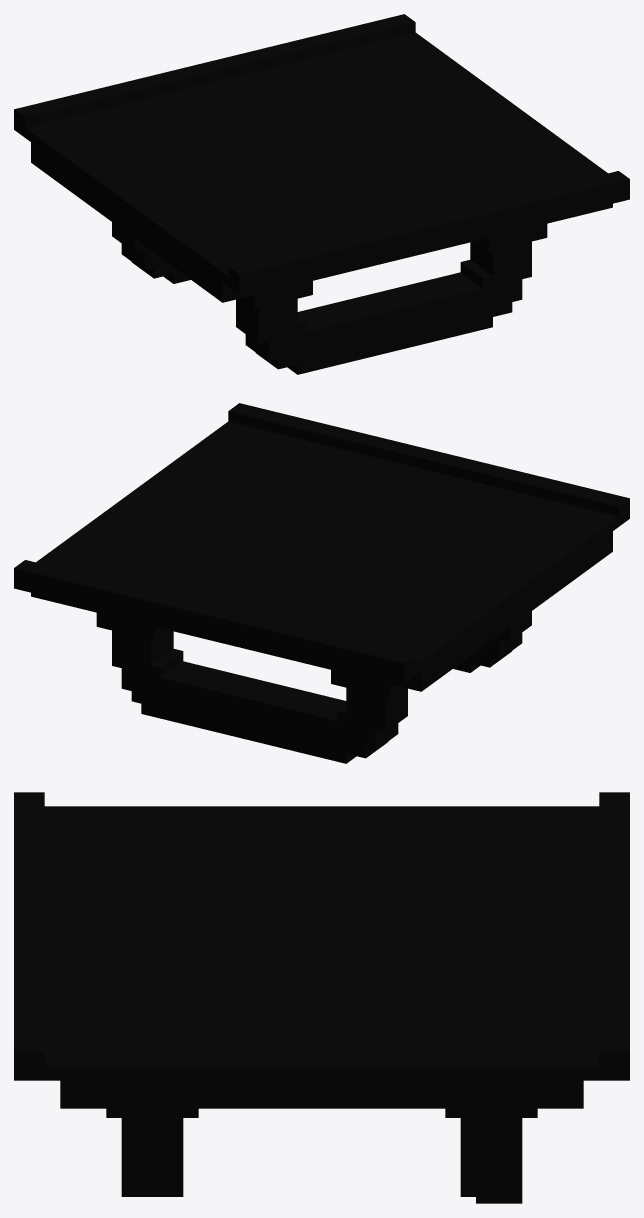
File: booster.obj
3 views of the same model, one above another, from view 1: azimuth 30°, elevation 25°; view 2: azimuth 150°, elevation 25°; view 3: azimuth 270°, elevation 25° (orthographic). The views are drawn at different scales.
Bounding box in the file's own units: 4 × 1.5 × 4.
